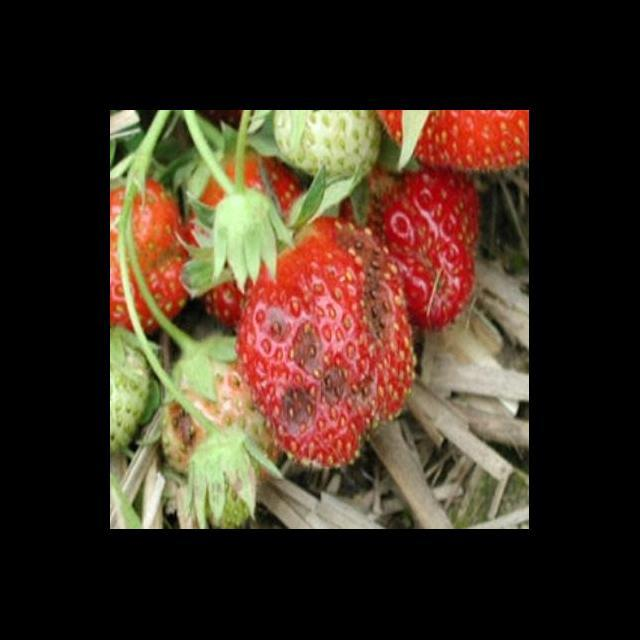Anthracnose Fruit Rot: (262, 222, 401, 434), (161, 364, 280, 477)
